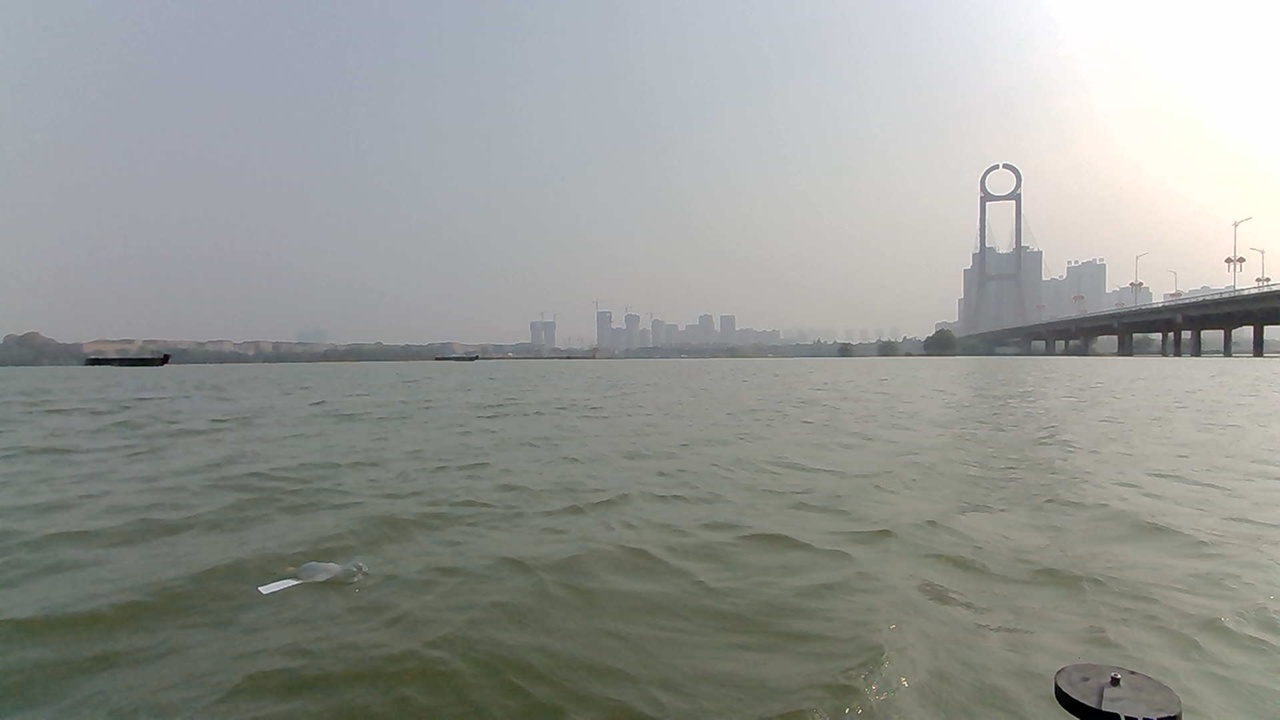bottle: (233, 536, 390, 607)
